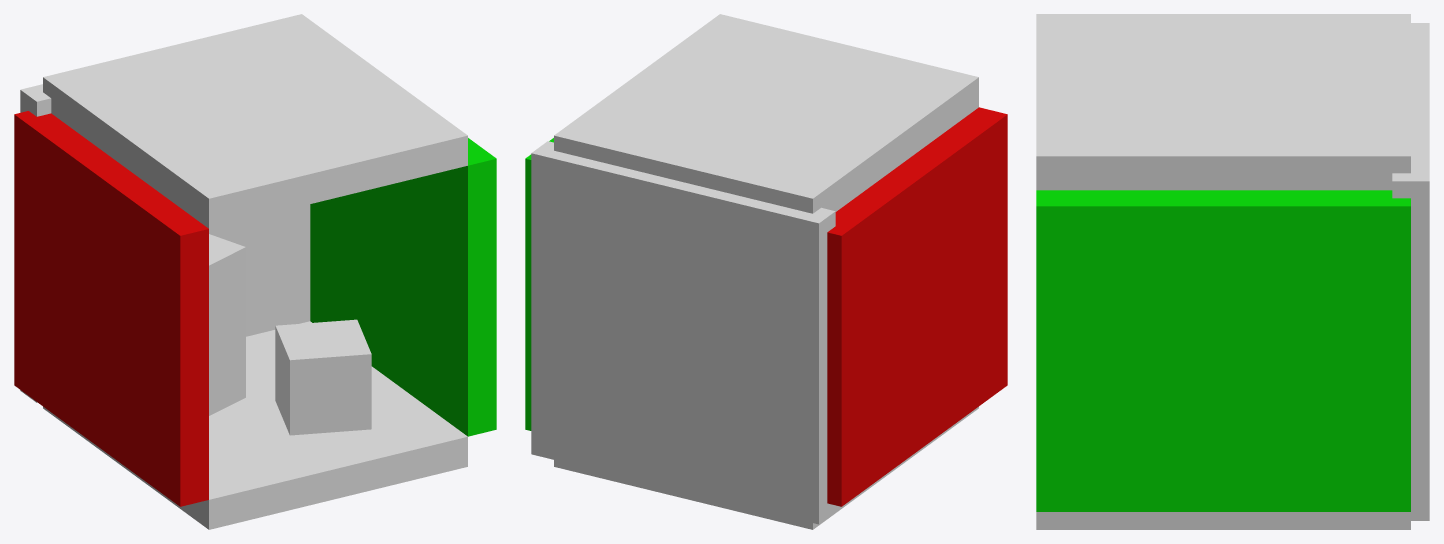
File: cornellbox.gltf
The picture shows the model from 3 angles, left to right: view 1: azimuth 30°, elevation 25°; view 2: azimuth 150°, elevation 25°; view 3: azimuth 270°, elevation 25°; orthographic projection. The views are drawn at different scales.
Parts seen in each view (by area): view 1: Left, Top, Right, Bottom, SmallBox, Back, BigBox; view 2: Back, Left, Top, Bottom, Right; view 3: Right, Top, Back, Bottom.
Part boxes in pixels (x1,y1,x2,y2): Left: [14, 111, 208, 506]; Top: [43, 14, 467, 228]; Right: [310, 138, 496, 436]; Bottom: [43, 321, 467, 529]; SmallBox: [275, 319, 371, 435]; Back: [20, 84, 310, 402]; BigBox: [209, 234, 245, 415]; Back: [531, 141, 835, 524]; Left: [827, 107, 1007, 506]; Top: [554, 14, 978, 213]; Bottom: [554, 406, 978, 529]; Right: [525, 138, 553, 430]; Right: [1036, 190, 1410, 511]; Top: [1036, 14, 1410, 190]; Back: [1392, 23, 1429, 520]; Bottom: [1036, 512, 1410, 529].
Size of the model in its own units: 2.2 by 2.2 by 2.1.
